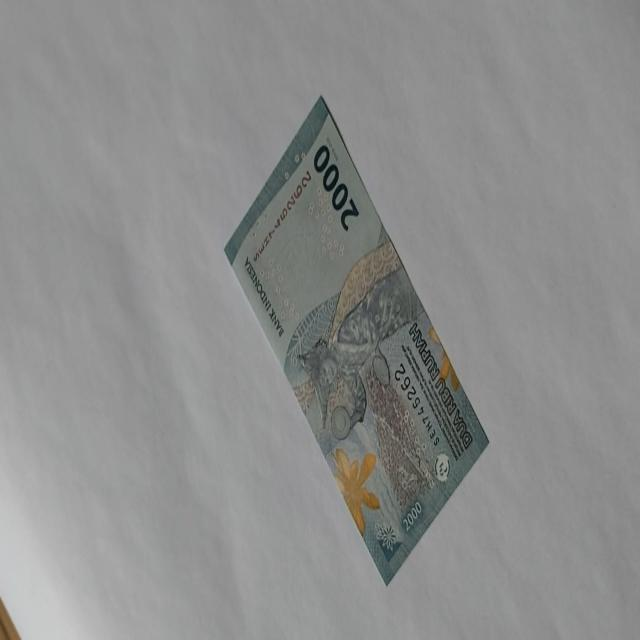dua ribu rupiah: (223, 93, 490, 585), (294, 239, 442, 524), (330, 444, 380, 536)
